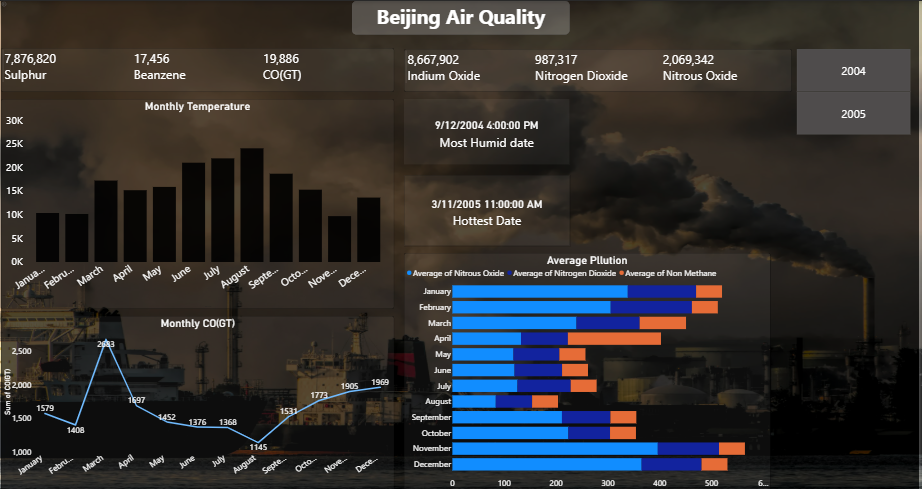

What the dashboard file says about the page in this screenshot:
{"tool":"powerbi","page":{"name":"Page 1","canvas":[6000,3200],"ordinal":0},"visuals":[{"type":"textbox","title":"Beijing Air Quality","box":[2290.5,0,1420.7,219.1],"z":0},{"type":"multiRowCard","fields":{"Values":["Sum(AirQualityUCI.Sulphur)","Sum(AirQualityUCI.Beanzene)","Sum(AirQualityUCI.CO(GT))"]},"box":[0,306.7,2566.7,286.7],"z":1000},{"type":"slicer","fields":{"Values":["AirQualityUCI.Years"]},"box":[5171.8,305.4,790,571],"z":2000},{"type":"actionButton","box":[0,0,100,40],"z":3000},{"type":"multiRowCard","fields":{"Values":["Sum(AirQualityUCI.Indium Oxide)","Sum(AirQualityUCI.Nitrogen Dioxide)","Sum(AirQualityUCI.Nitrous Oxide)"]},"box":[2633.3,313.3,2533.3,280],"z":4000},{"type":"clusteredColumnChart","title":"Monthly Temperature","fields":{"Category":["AirQualityUCI.Date and Time.Variation.Date Hierarchy.Month"],"Y":["Sum(AirQualityUCI.Temp in C)"]},"box":[0,640,2566.5,1371.4],"z":5000},{"type":"card","fields":{"Values":["AirQualityUCI.Hottest Date"]},"box":[2631.8,1136.3,1084.1,463.7],"z":6000},{"type":"card","fields":{"Values":["AirQualityUCI.Most Humid date"]},"box":[2633.3,640,1080,426.7],"z":7000},{"type":"barChart","title":"Average Pllution","fields":{"Category":["AirQualityUCI.Date and Time.Variation.Date Hierarchy.Month"],"Y":["Avg(AirQualityUCI.Nitrous Oxide)","Avg(AirQualityUCI.Nitrogen Dioxide)","Avg(AirQualityUCI.Non Methane)"]},"box":[2633.3,1646.7,2393.3,1553.3],"z":8000},{"type":"lineChart","title":"Monthly CO(GT)","fields":{"Category":["AirQualityUCI.Date and Time.Variation.Date Hierarchy.Month","AirQualityUCI.Date and Time.Variation.Date Hierarchy.Day"],"Y":["Sum(AirQualityUCI.CO(GT))"]},"box":[0,2057.1,2566.5,1142.9],"z":9000}]}

Visuals, with their boxes in screenshot pixels (x1, y1, x2, y2), scaled from the page's 6000x3200 canvas onto the 922x489 screenshot:
"Beijing Air Quality" textbox: <bbox>352, 0, 570, 33</bbox>
multiRowCard - Sum(AirQualityUCI.Sulphur) x Sum(AirQualityUCI.Beanzene): <bbox>0, 47, 394, 91</bbox>
slicer - AirQualityUCI.Years: <bbox>795, 47, 916, 134</bbox>
actionButton: <bbox>0, 0, 15, 6</bbox>
multiRowCard - Sum(AirQualityUCI.Indium Oxide) x Sum(AirQualityUCI.Nitrogen Dioxide): <bbox>405, 48, 794, 91</bbox>
"Monthly Temperature" clusteredColumnChart: <bbox>0, 98, 394, 307</bbox>
card - AirQualityUCI.Hottest Date: <bbox>404, 174, 571, 244</bbox>
card - AirQualityUCI.Most Humid date: <bbox>405, 98, 571, 163</bbox>
"Average Pllution" barChart: <bbox>405, 252, 772, 488</bbox>
"Monthly CO(GT)" lineChart: <bbox>0, 314, 394, 488</bbox>
